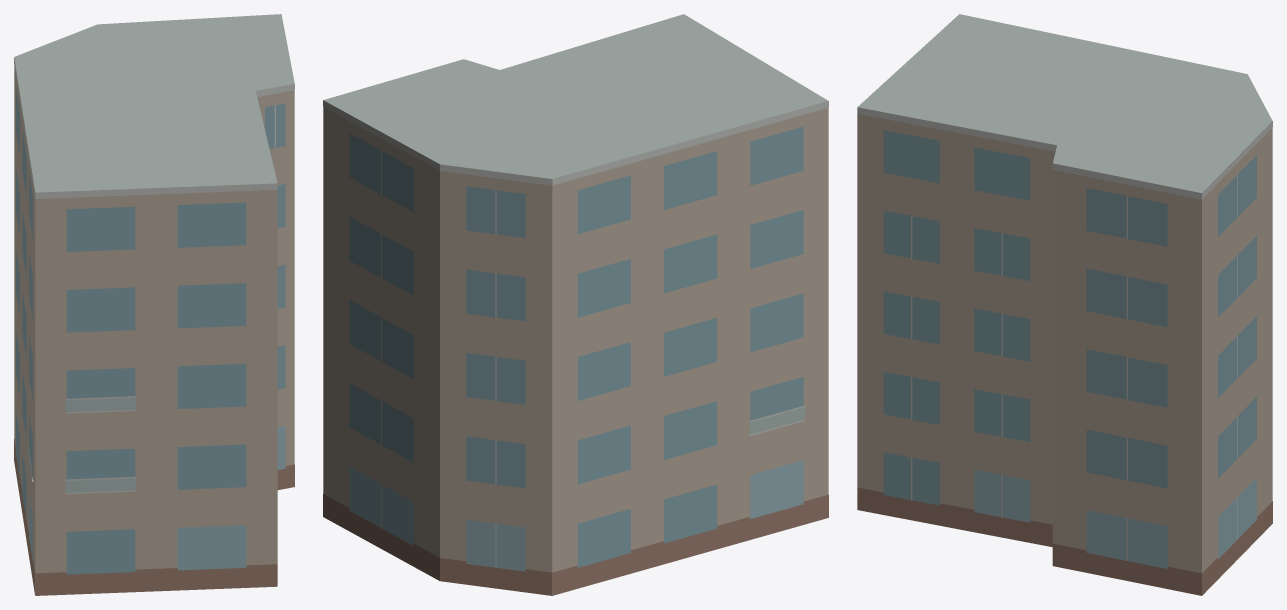
The model's file is survey-upis-32782569.glb.
3 views of the same model, side by side, from view 1: azimuth 30°, elevation 25°; view 2: azimuth 150°, elevation 25°; view 3: azimuth 270°, elevation 25° (orthographic). The views are drawn at different scales.
Parts seen in each view (by area): view 1: survey-upis-32782569.tmp; view 2: survey-upis-32782569.tmp; view 3: survey-upis-32782569.tmp.
Part boxes in pixels (x1,y1,x2,y2): survey-upis-32782569.tmp: [14, 14, 294, 595]; survey-upis-32782569.tmp: [323, 14, 828, 595]; survey-upis-32782569.tmp: [857, 14, 1272, 595].
Bounding box in the file's own units: 14.51 × 15.2 × 14.22.
